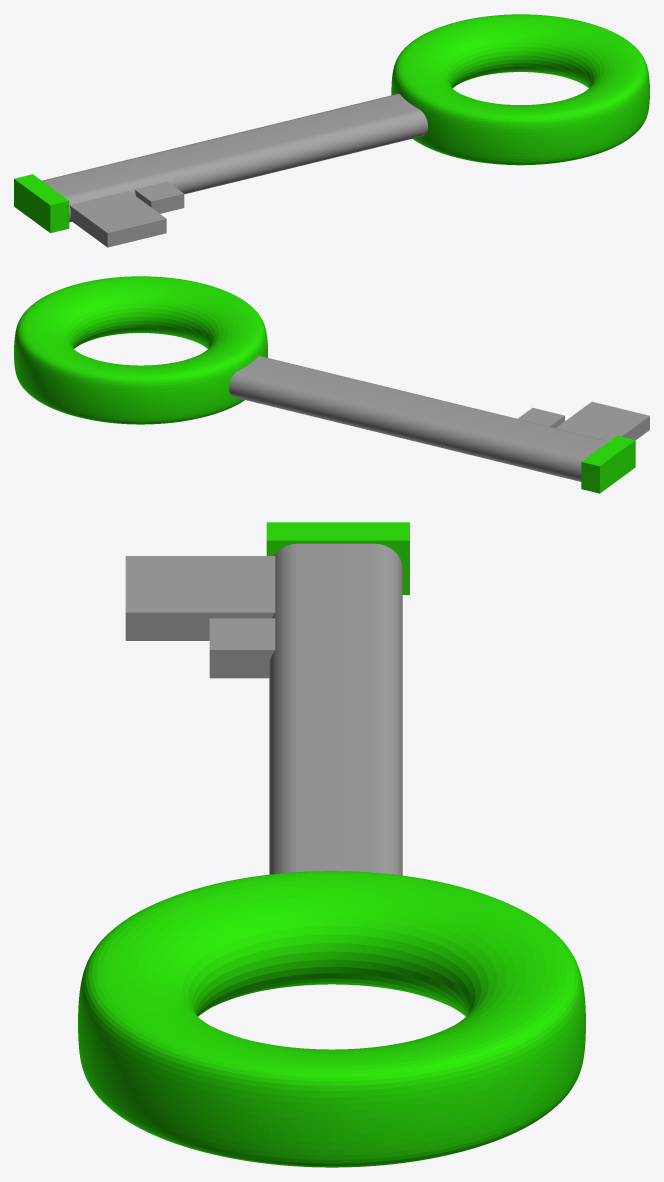
Rendered from Key.fbx.
3 renders of one model, top to bottom at view 1: azimuth 30°, elevation 25°; view 2: azimuth 150°, elevation 25°; view 3: azimuth 270°, elevation 25°, orthographic. The views are drawn at different scales.
Parts seen in each view (by area): view 1: Circle; view 2: Circle; view 3: Circle.
Boxes of the visible parts, bbox=[...] form: Circle: bbox=[14, 14, 649, 247]; Circle: bbox=[14, 276, 649, 493]; Circle: bbox=[78, 522, 585, 1167].
Size of the model in its own units: 530 by 41.43 by 198.
